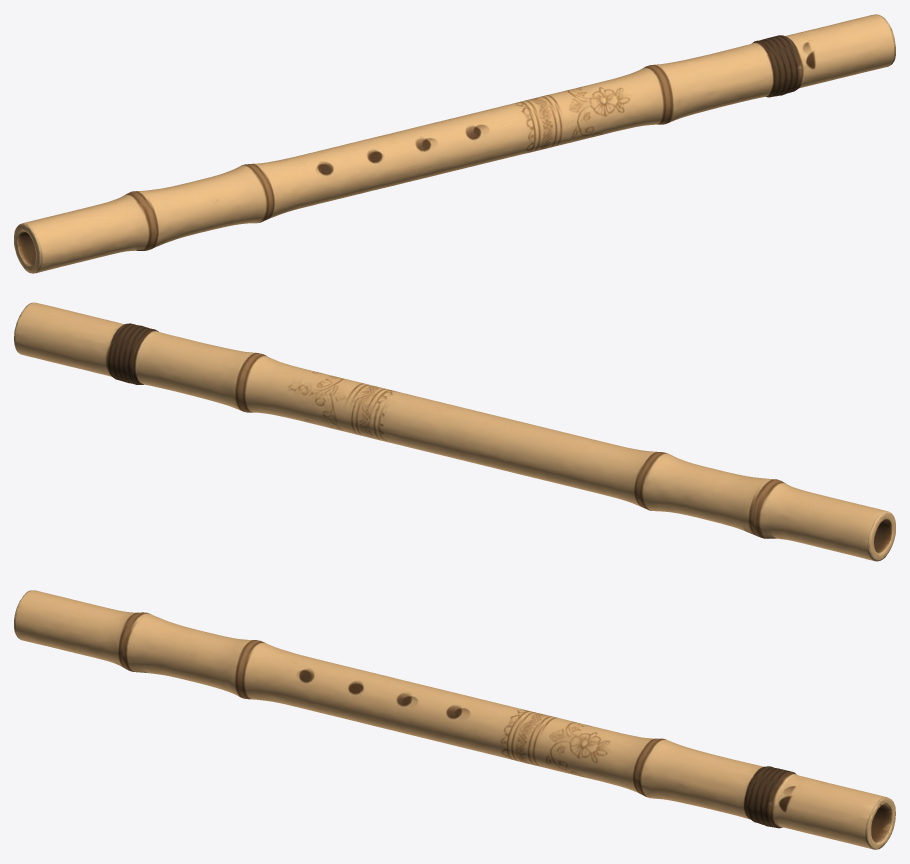
Rendered from Suling.glb.
The picture shows the model from 3 angles, top to bottom: view 1: azimuth 30°, elevation 25°; view 2: azimuth 150°, elevation 25°; view 3: azimuth 330°, elevation 25°; orthographic projection.
Bounding box in the file's own units: 1.9 × 0.115 × 0.1238.
1 material, 1 textured.
